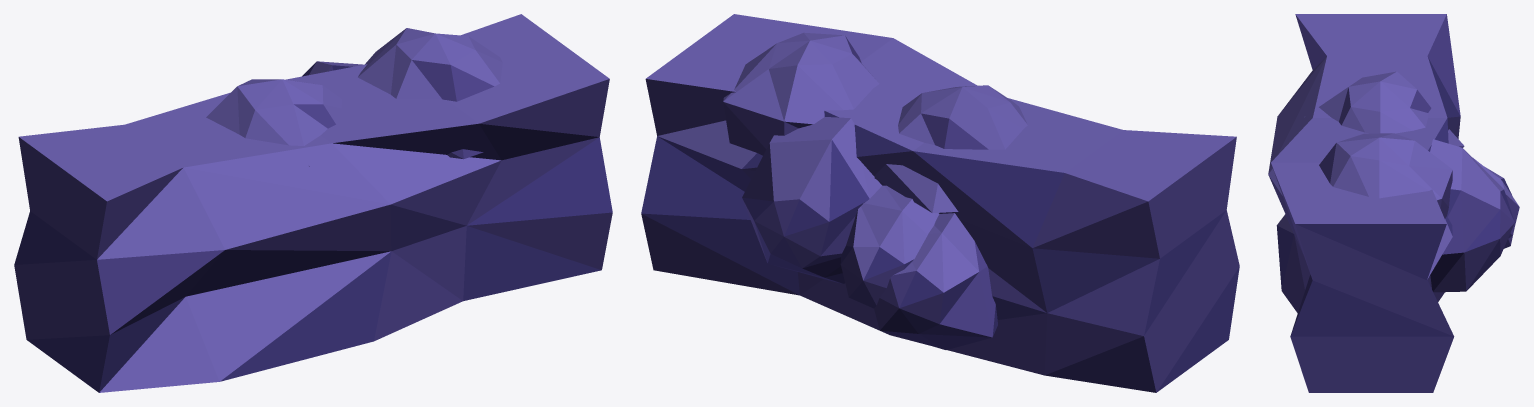
Rendered from Mine_FrontWall_A.obj.
The picture shows the model from 3 angles, left to right: view 1: azimuth 30°, elevation 25°; view 2: azimuth 150°, elevation 25°; view 3: azimuth 270°, elevation 25°; orthographic projection. The views are drawn at different scales.
Visible parts, largest first — view 1: Mine_FrontWall_A; view 2: Mine_FrontWall_A; view 3: Mine_FrontWall_A.
Boxes of the visible parts, x1,y1,x2,y2 form: Mine_FrontWall_A: [14, 14, 612, 392]; Mine_FrontWall_A: [641, 14, 1239, 392]; Mine_FrontWall_A: [1268, 14, 1519, 392].
Bounding box in the file's own units: 4 × 1.8 × 2.02.
